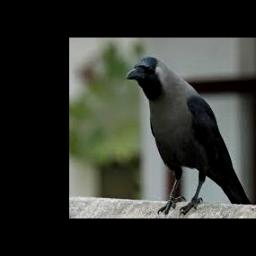Crow: (126, 56, 252, 216)
